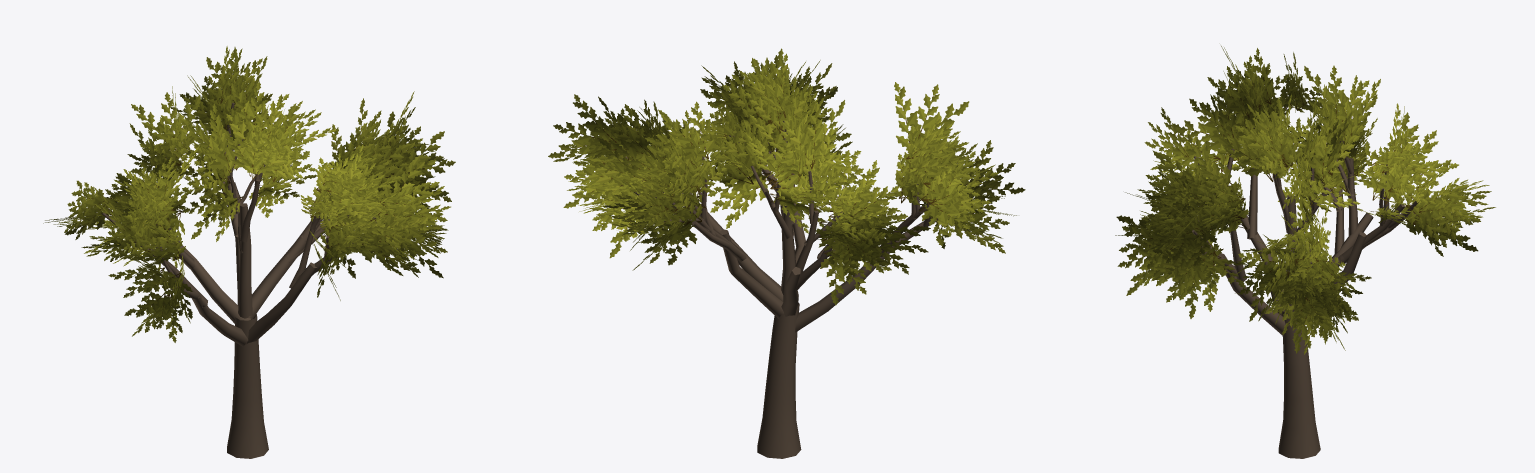
File: oak_2_burnt1.glb
3 renders of one model, left to right at view 1: azimuth 30°, elevation 25°; view 2: azimuth 150°, elevation 25°; view 3: azimuth 270°, elevation 25°, orthographic. The views are drawn at different scales.
Visible parts, largest first — view 1: oak_2_burnt1; view 2: oak_2_burnt1; view 3: oak_2_burnt1.
Boxes of the visible parts, box(x1,y1,x2,y2) form: oak_2_burnt1: box(43, 46, 455, 458); oak_2_burnt1: box(548, 48, 1025, 458); oak_2_burnt1: box(1115, 46, 1495, 458).
Bounding box in the file's own units: 10.62 × 8.77 × 8.9.
Materials: 2 (1 with a texture image).
